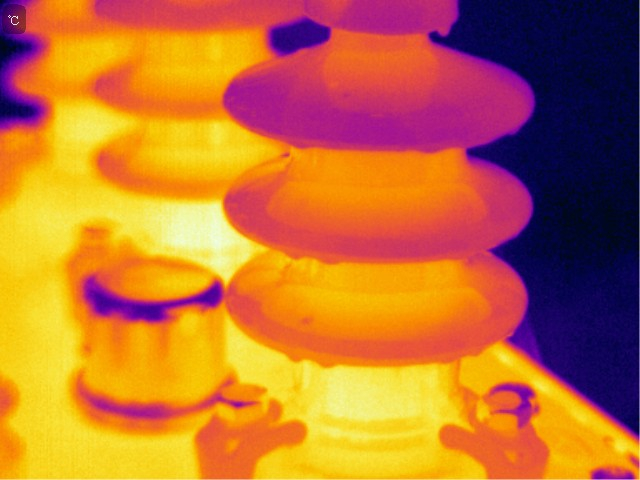Oil: (456, 178, 493, 224), (312, 1, 358, 28), (465, 344, 490, 365), (289, 43, 312, 64), (504, 324, 523, 344), (432, 22, 453, 40), (317, 251, 341, 265), (315, 358, 337, 371), (285, 246, 303, 261), (288, 350, 303, 365), (439, 352, 457, 364)
